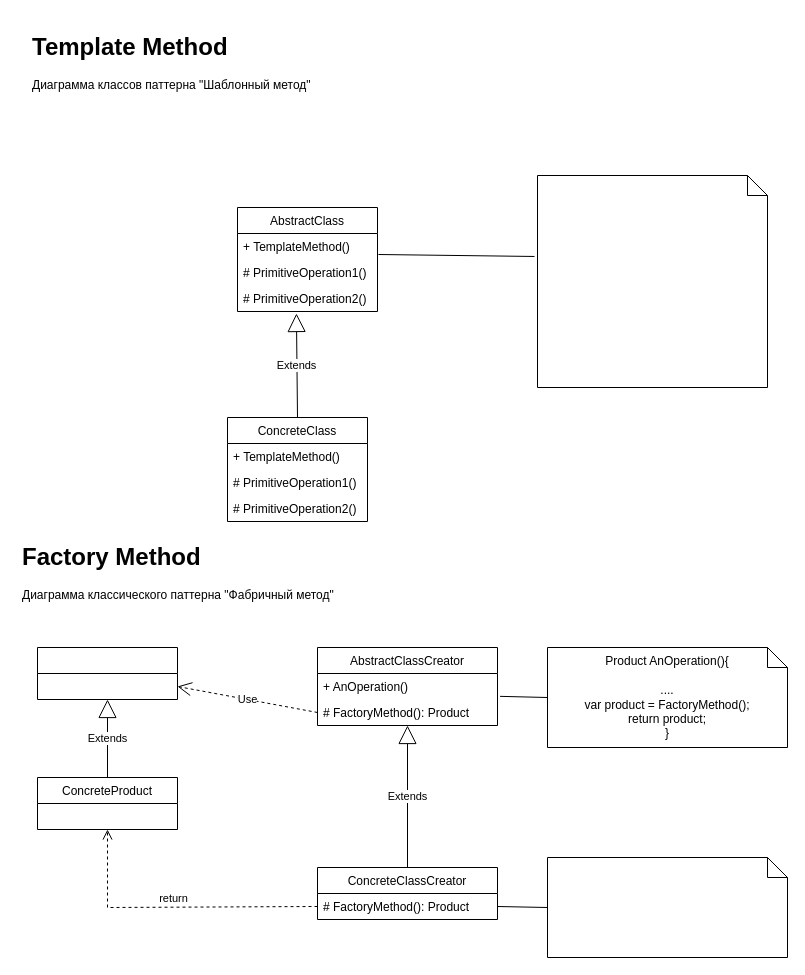
The diagram is 805 pixels wide and 975 high, and some of its shapes have lost their labels. The centre of each missing label's shape, as x and y in pixels:
Product: (x=107, y=673)
return ConcreteProduct();: (x=667, y=907)
vod TemplateMethod(){ PrimitiveOperation(); ...... PrimitiveOperation(); }: (x=652, y=281)
